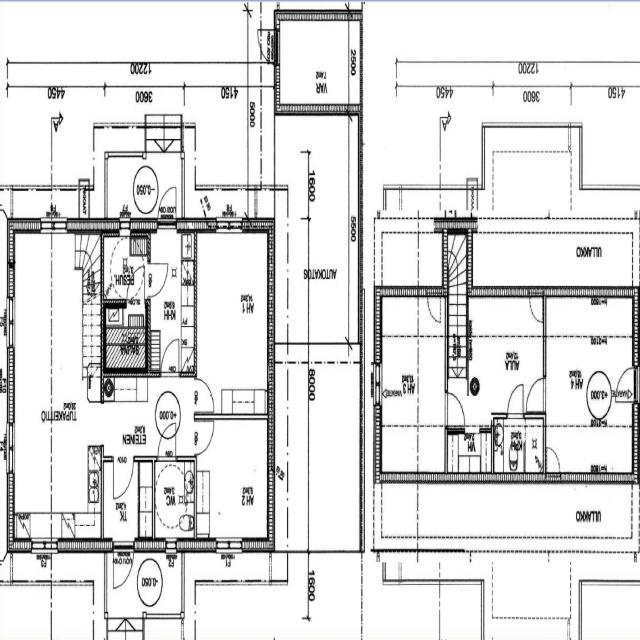door: (114, 538, 134, 591), (157, 183, 175, 233), (114, 456, 134, 500), (615, 368, 640, 402), (257, 30, 280, 63), (158, 421, 176, 461), (127, 266, 144, 308), (161, 338, 179, 377), (194, 421, 214, 455), (194, 378, 214, 412), (445, 392, 465, 426), (526, 378, 546, 412), (148, 264, 168, 296), (508, 383, 523, 418)
